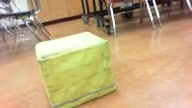cube: (35, 31, 116, 108)
